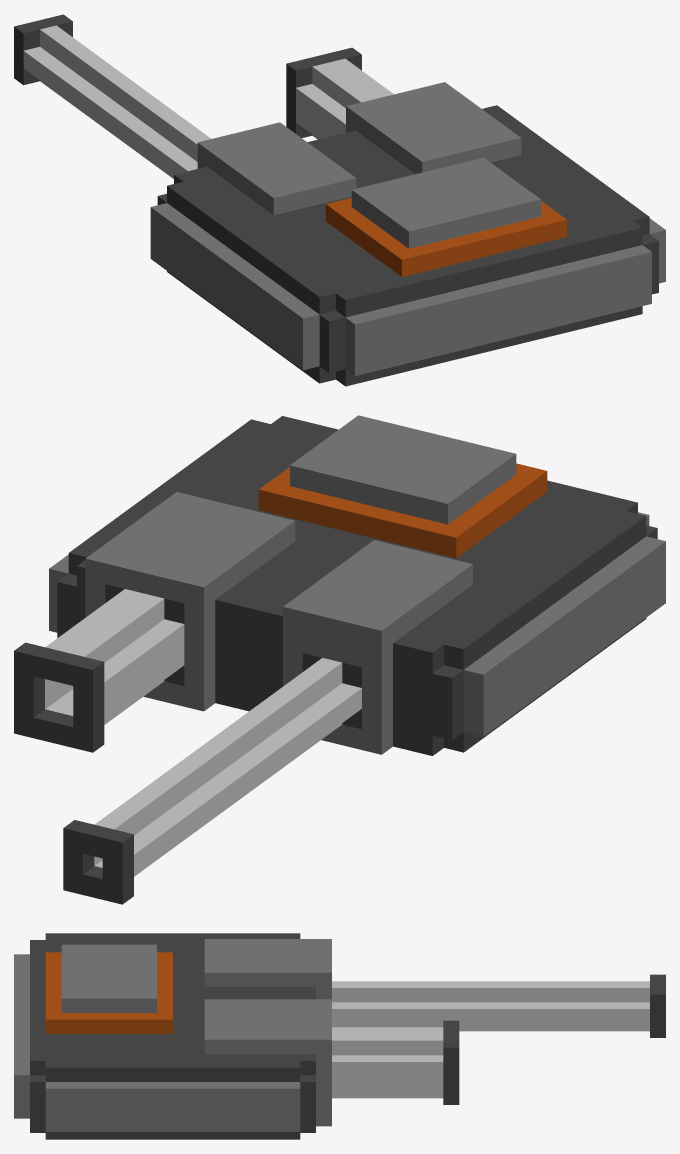
The model's file is TankCanon.obj.
3 views of the same model, one above another, from view 1: azimuth 30°, elevation 25°; view 2: azimuth 150°, elevation 25°; view 3: azimuth 270°, elevation 25° (orthographic). The views are drawn at different scales.
Bounding box in the file's own units: 2.2 × 0.7 × 4.1.
Materials: 1 (1 with a texture image).
